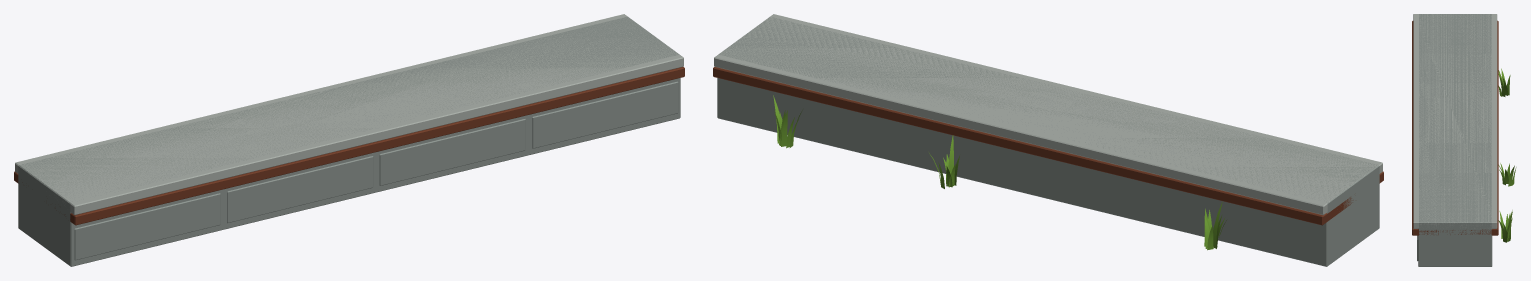
Rendered from RUIN_POOL_Edge_4.glb.
The picture shows the model from 3 angles, left to right: view 1: azimuth 30°, elevation 25°; view 2: azimuth 150°, elevation 25°; view 3: azimuth 270°, elevation 25°; orthographic projection. The views are drawn at different scales.
Parts seen in each view (by area): view 1: RUIN_POOL_Edge_4; view 2: RUIN_POOL_Edge_4; view 3: RUIN_POOL_Edge_4.
Boxes of the visible parts, box(x1,y1,x2,y2) form: RUIN_POOL_Edge_4: box(14, 14, 684, 266); RUIN_POOL_Edge_4: box(713, 14, 1383, 266); RUIN_POOL_Edge_4: box(1412, 14, 1516, 266).
Size of the model in its own units: 4 by 0.4 by 0.849.
